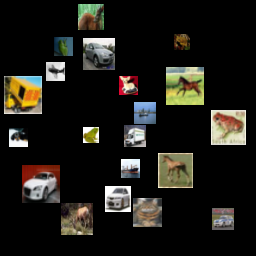airplane: (143, 123, 181, 161), (190, 10, 222, 42), (17, 211, 43, 237)
automobile: (214, 186, 236, 208), (119, 49, 138, 68), (16, 98, 35, 117)
bird: (21, 6, 53, 38)
cat: (6, 186, 28, 208)
deer: (200, 87, 229, 116), (17, 145, 36, 164)
dog: (62, 2, 97, 37), (114, 140, 140, 166), (112, 12, 134, 34)
ship: (90, 80, 128, 118), (166, 180, 204, 218), (103, 192, 138, 227)
